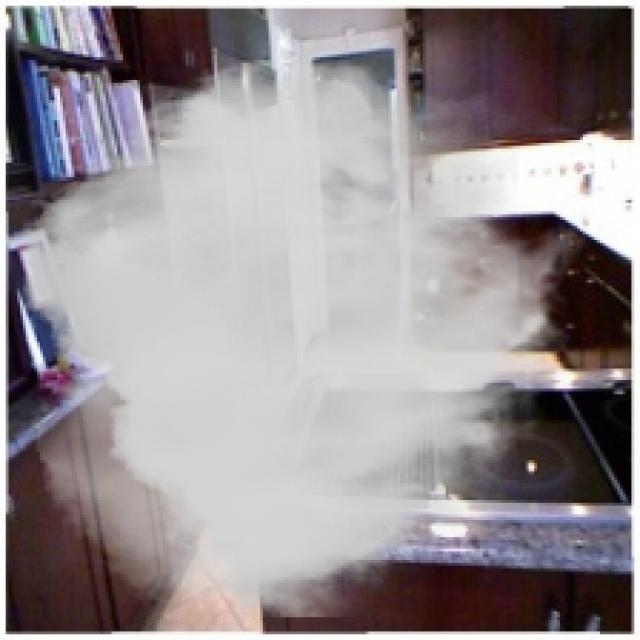smoke: (23, 52, 588, 617)
